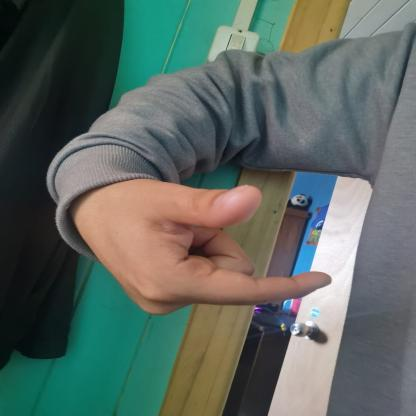G: (82, 161, 342, 344)
